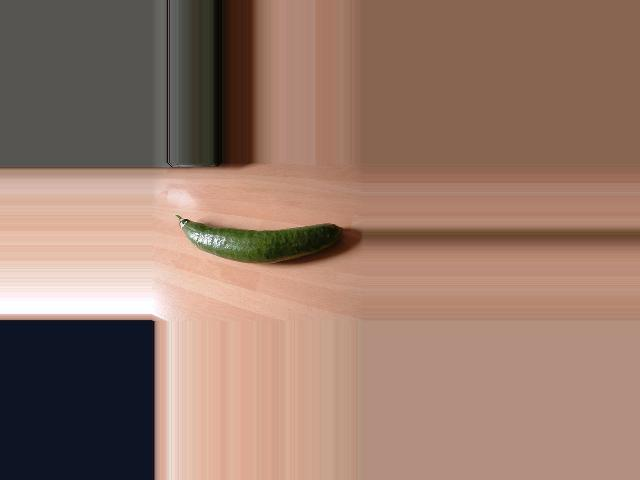cucumber: (174, 215, 344, 264)
